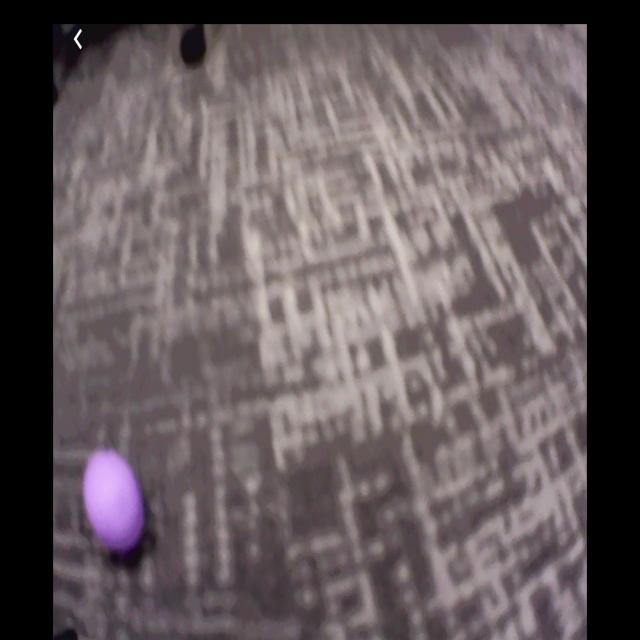ball: (83, 450, 144, 551)
